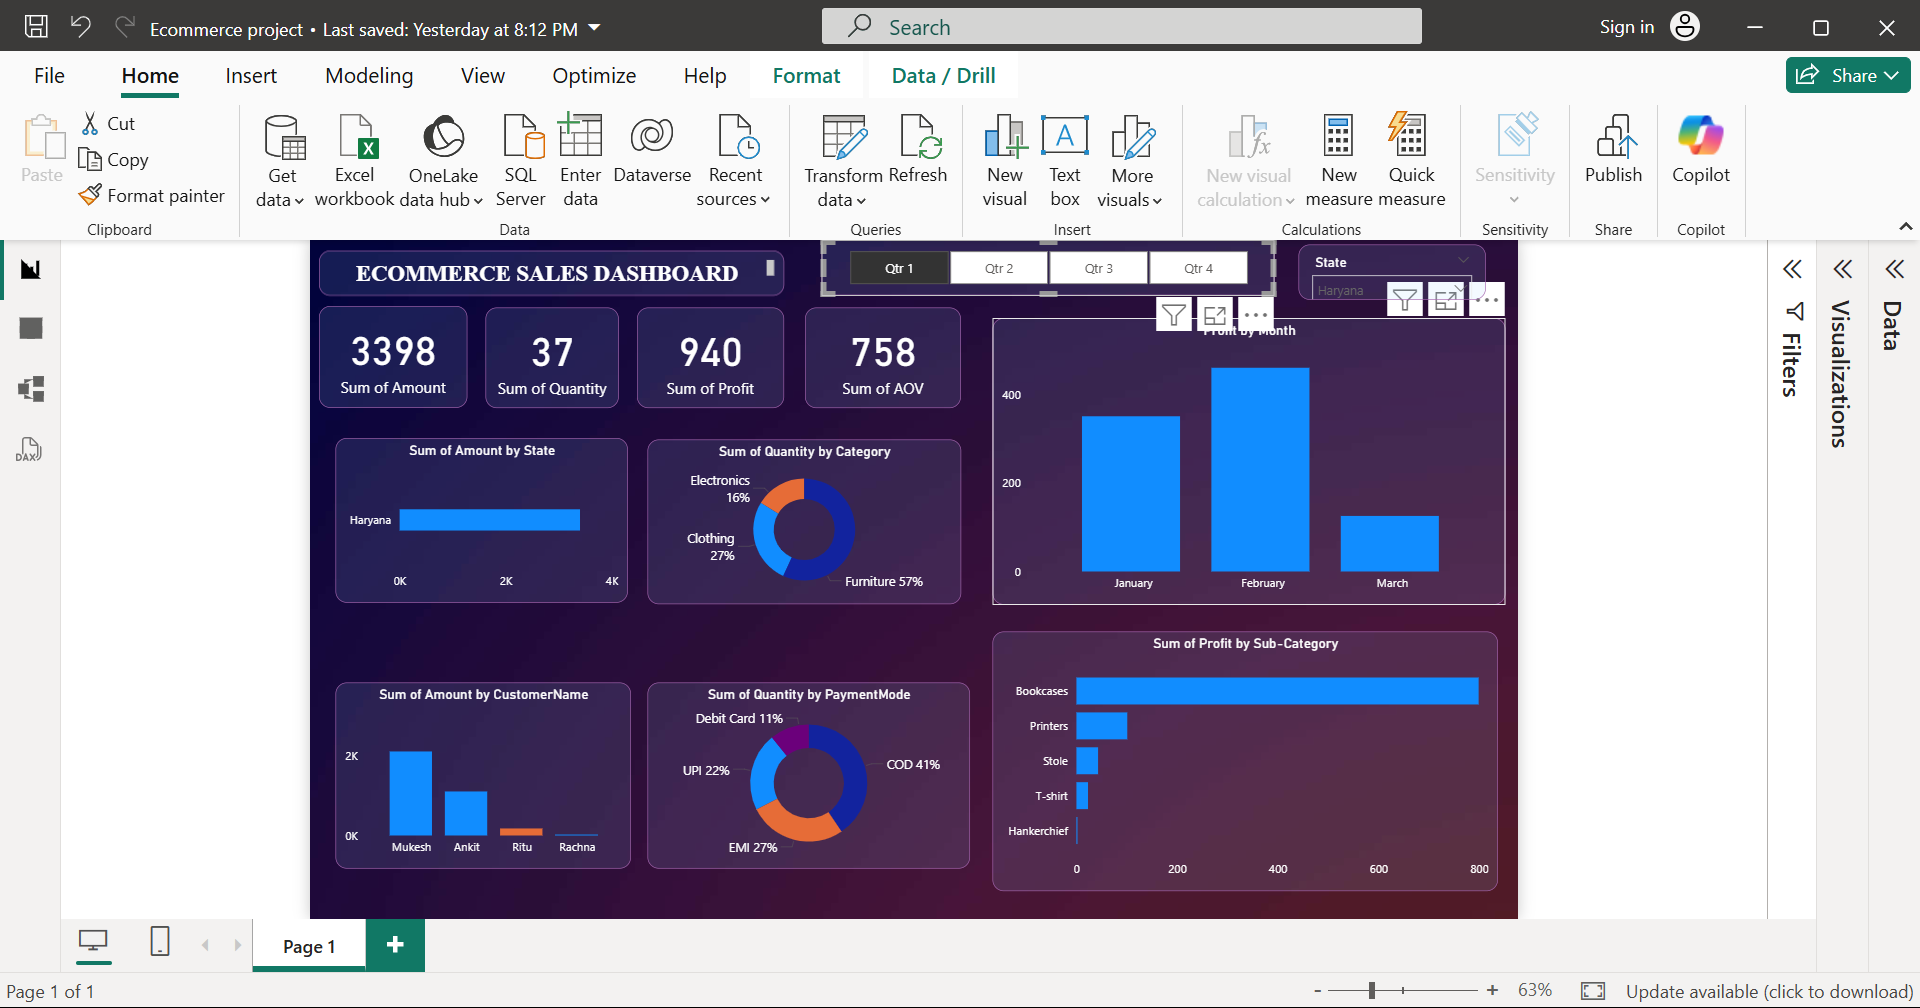

This screenshot's page, from the dashboard's own definition file:
{"tool":"powerbi","page":{"name":"Page 1","canvas":[1280,720],"ordinal":0},"visuals":[{"type":"textbox","box":[9.5,11.1,493.1,47.7],"z":0},{"type":"columnChart","title":"Profit by Month","fields":{"Y":["Sum(Details.Profit)"],"Category":["Orders.Order Date.Variation.Date Hierarchy.Month"]},"box":[723.7,82.7,544,303.8],"z":1000},{"type":"barChart","fields":{"Category":["Details.Sub-Category"],"Y":["Sum(Details.Profit)"]},"box":[723.7,415.1,536,275.2],"z":2000},{"type":"donutChart","fields":{"Category":["Details.Category"],"Y":["Sum(Details.Quantity)"]},"box":[357.9,211.6,332.4,175],"z":3000},{"type":"donutChart","fields":{"Category":["Details.PaymentMode"],"Y":["Sum(Details.Quantity)"]},"box":[357.9,469.2,342,197.2],"z":4000},{"type":"card","fields":{"Values":["Sum(Details.Amount)"]},"box":[9.5,70,157.5,108.2],"z":5000},{"type":"card","fields":{"Values":["Sum(Details.Quantity)"]},"box":[186.1,71.6,141.6,106.6],"z":6000},{"type":"card","fields":{"Values":["Sum(Details.Profit)"]},"box":[346.8,71.6,155.9,106.6],"z":7000},{"type":"card","fields":{"Values":["Sum(Details.AOV)"]},"box":[524.9,71.6,165.4,106.6],"z":8000},{"type":"barChart","fields":{"Y":["Sum(Details.Amount)"],"Category":["Orders.State"]},"box":[27,210,310.2,175],"z":9000},{"type":"columnChart","fields":{"Category":["Orders.CustomerName"],"Y":["Sum(Details.Amount)"]},"box":[27,469.2,313.4,197.2],"z":10000},{"type":"slicer","fields":{"Values":["Orders.Order Date.Variation.Date Hierarchy.Quarter"]},"box":[542.4,0,480.4,58.9],"z":11000},{"type":"slicer","fields":{"Values":["Orders.State"]},"box":[1048.2,4.8,198.8,58.9],"z":12000}]}

Visuals, with their boxes on the page's 1280x720 design canvas (x1, y1, x2, y2). These are canvas units, not pixel positions in the 1920x1008 screenshot, which may show the page scaled, cropped or inside an application window:
textbox: bbox=(10, 11, 503, 59)
"Profit by Month" columnChart: bbox=(724, 83, 1268, 386)
barChart - Details.Sub-Category x Sum(Details.Profit): bbox=(724, 415, 1260, 690)
donutChart - Details.Category x Sum(Details.Quantity): bbox=(358, 212, 690, 387)
donutChart - Details.PaymentMode x Sum(Details.Quantity): bbox=(358, 469, 700, 666)
card - Sum(Details.Amount): bbox=(10, 70, 167, 178)
card - Sum(Details.Quantity): bbox=(186, 72, 328, 178)
card - Sum(Details.Profit): bbox=(347, 72, 503, 178)
card - Sum(Details.AOV): bbox=(525, 72, 690, 178)
barChart - Sum(Details.Amount) x Orders.State: bbox=(27, 210, 337, 385)
columnChart - Orders.CustomerName x Sum(Details.Amount): bbox=(27, 469, 340, 666)
slicer - Orders.Order Date.Variation.Date Hierarchy.Quarter: bbox=(542, 0, 1023, 59)
slicer - Orders.State: bbox=(1048, 5, 1247, 64)
